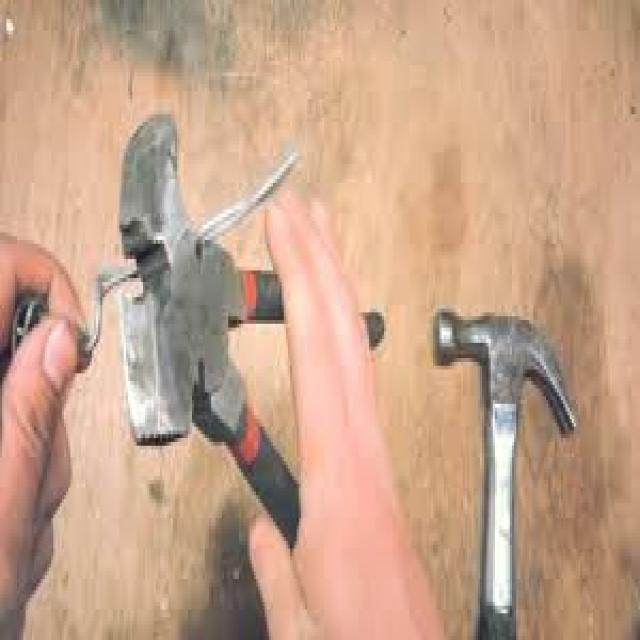hammer: (429, 280, 584, 640)
pliers: (76, 118, 383, 554)
